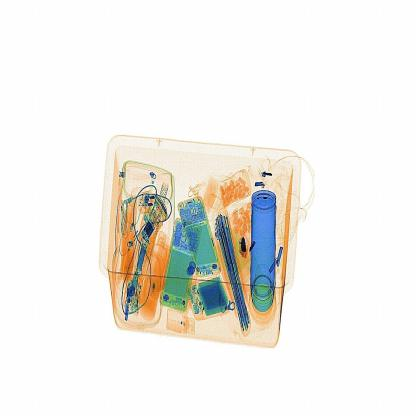wrench: (236, 232, 252, 262)
